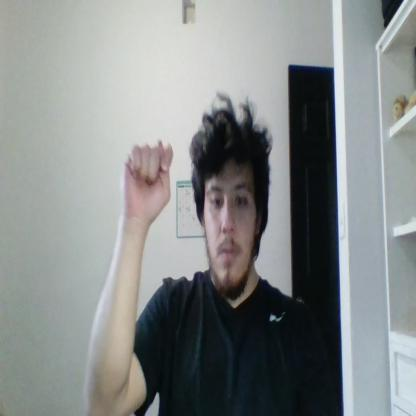T: (121, 138, 173, 218)
